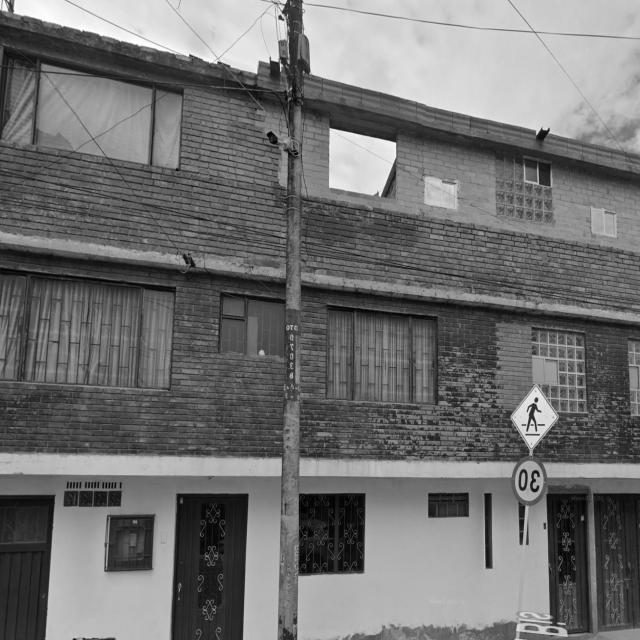Fachada: (0, 11, 640, 640)
Poste: (279, 0, 304, 640)
